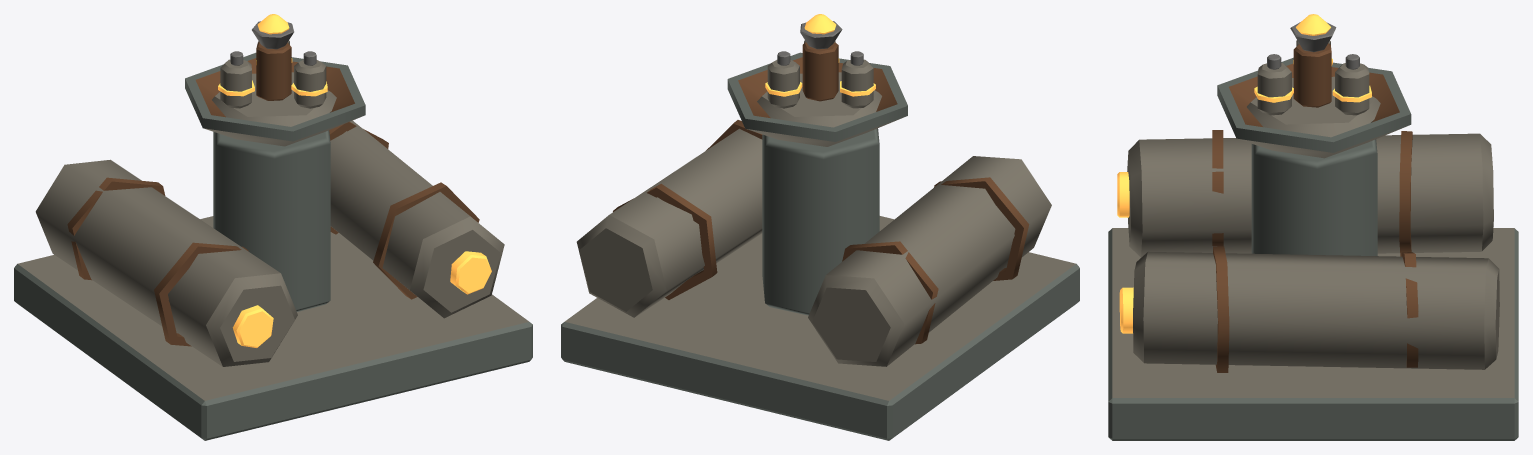
Rendered from R4X_BurnTrapDeployer_LOD1.fbx.
The picture shows the model from 3 angles, left to right: view 1: azimuth 30°, elevation 25°; view 2: azimuth 150°, elevation 25°; view 3: azimuth 270°, elevation 25°; orthographic projection. The views are drawn at different scales.
Visible parts, largest first — view 1: R4X_BurnTrapDeployer_LOD1; view 2: R4X_BurnTrapDeployer_LOD1; view 3: R4X_BurnTrapDeployer_LOD1.
Boxes of the visible parts, bbox=[...] form: R4X_BurnTrapDeployer_LOD1: bbox=[14, 14, 532, 440]; R4X_BurnTrapDeployer_LOD1: bbox=[561, 14, 1079, 440]; R4X_BurnTrapDeployer_LOD1: bbox=[1108, 14, 1518, 440].
Bounding box in the file's own units: 0.52 × 0.476 × 0.52.
